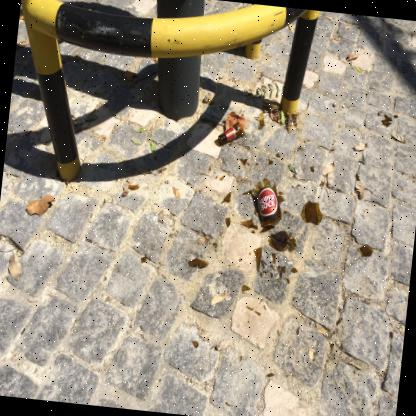Broken glass: (267, 230, 289, 250), (305, 201, 322, 225), (187, 257, 209, 267), (254, 246, 262, 272), (240, 218, 257, 229), (359, 244, 373, 256), (288, 233, 296, 251), (257, 112, 264, 129), (222, 190, 231, 201), (383, 113, 392, 121), (128, 183, 139, 189), (278, 195, 285, 204), (241, 285, 250, 292), (225, 217, 230, 228), (260, 259, 266, 268), (279, 266, 286, 273), (140, 256, 146, 263), (192, 340, 198, 347), (243, 189, 251, 194), (245, 305, 253, 310), (224, 401, 232, 406), (279, 269, 282, 281), (336, 317, 342, 323), (385, 121, 391, 127), (240, 159, 247, 164), (290, 267, 297, 272), (266, 373, 274, 377), (220, 175, 225, 181), (255, 310, 260, 316), (272, 253, 275, 262), (309, 166, 314, 171), (212, 243, 217, 248), (270, 265, 275, 270), (268, 272, 273, 277), (286, 278, 290, 284), (296, 326, 299, 334), (381, 120, 385, 126), (259, 297, 262, 304), (268, 160, 272, 165), (278, 191, 283, 195), (330, 344, 333, 350), (275, 153, 279, 157), (393, 114, 397, 118), (263, 270, 268, 273), (277, 265, 279, 271), (238, 257, 241, 261), (259, 272, 261, 278), (262, 304, 265, 308), (251, 230, 254, 233), (283, 210, 286, 213), (266, 158, 269, 161)
Cigarette: (324, 14, 332, 19)
Glass bottle: (255, 178, 282, 226), (218, 120, 244, 145)
